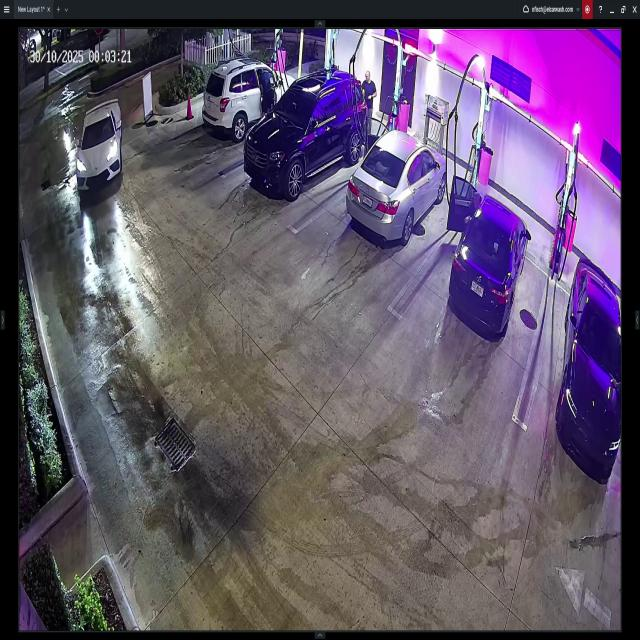Car: (246, 64, 365, 194), (555, 264, 627, 472), (450, 174, 528, 338), (351, 129, 447, 249), (206, 62, 296, 135), (77, 100, 123, 194)
